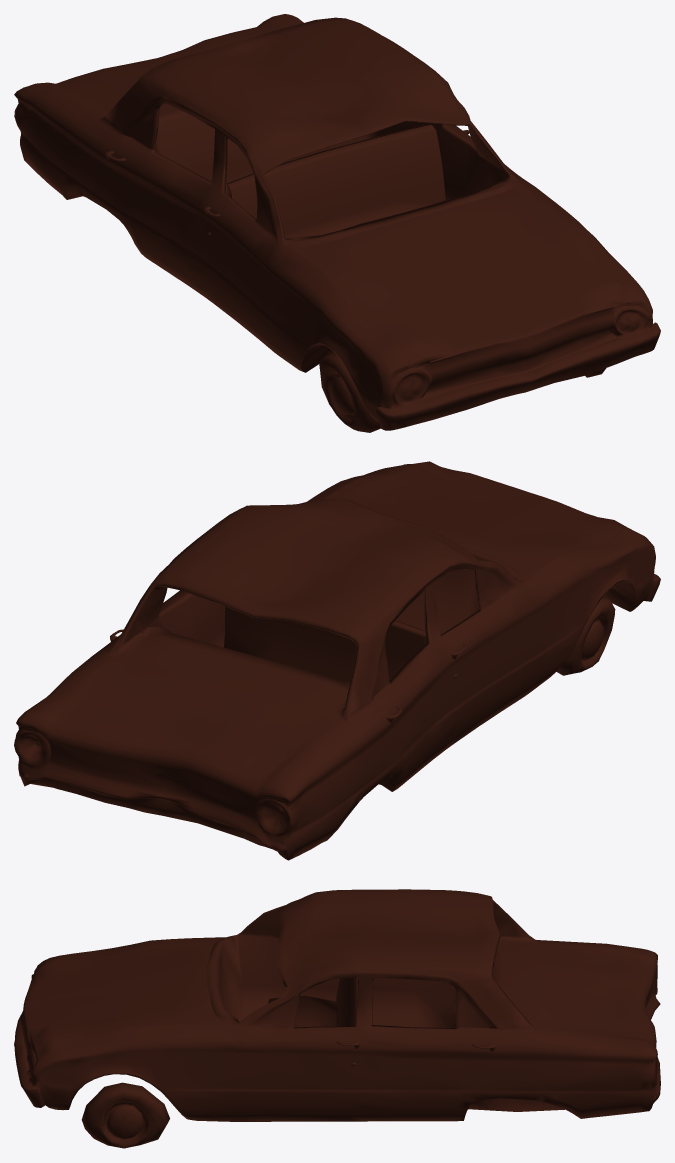
File: Car_Coffre_01A.fbx
The picture shows the model from 3 angles, top to bottom: view 1: azimuth 30°, elevation 25°; view 2: azimuth 150°, elevation 25°; view 3: azimuth 270°, elevation 25°; orthographic projection. The views are drawn at different scales.
Parts seen in each view (by area): view 1: Object_007, Object088; view 2: Object_007, Object088; view 3: Object_007, Object088.
Part boxes in pixels (x1,y1,x2,y2): Object_007: (14,14,660,432); Object088: (24,14,301,129); Object_007: (14,461,660,860); Object088: (26,654,360,789); Object_007: (14,889,660,1148); Object088: (536,940,652,1049).
Size of the model in its own units: 240 by 167 by 556.
